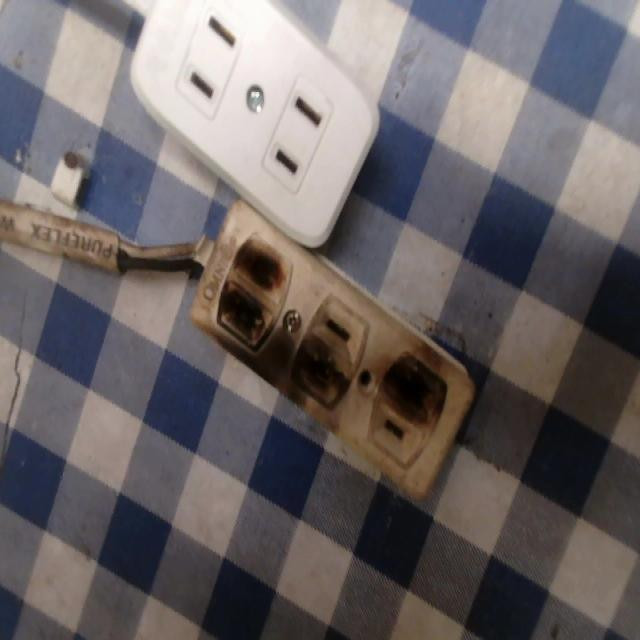-: (216, 232, 290, 344), (283, 336, 347, 432), (377, 338, 449, 422)
